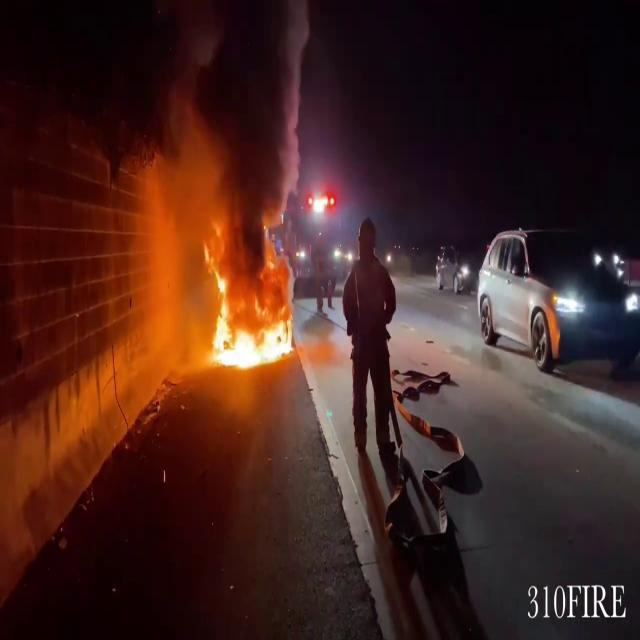Fire: (190, 221, 290, 375)
Smoke: (145, 0, 315, 216)
